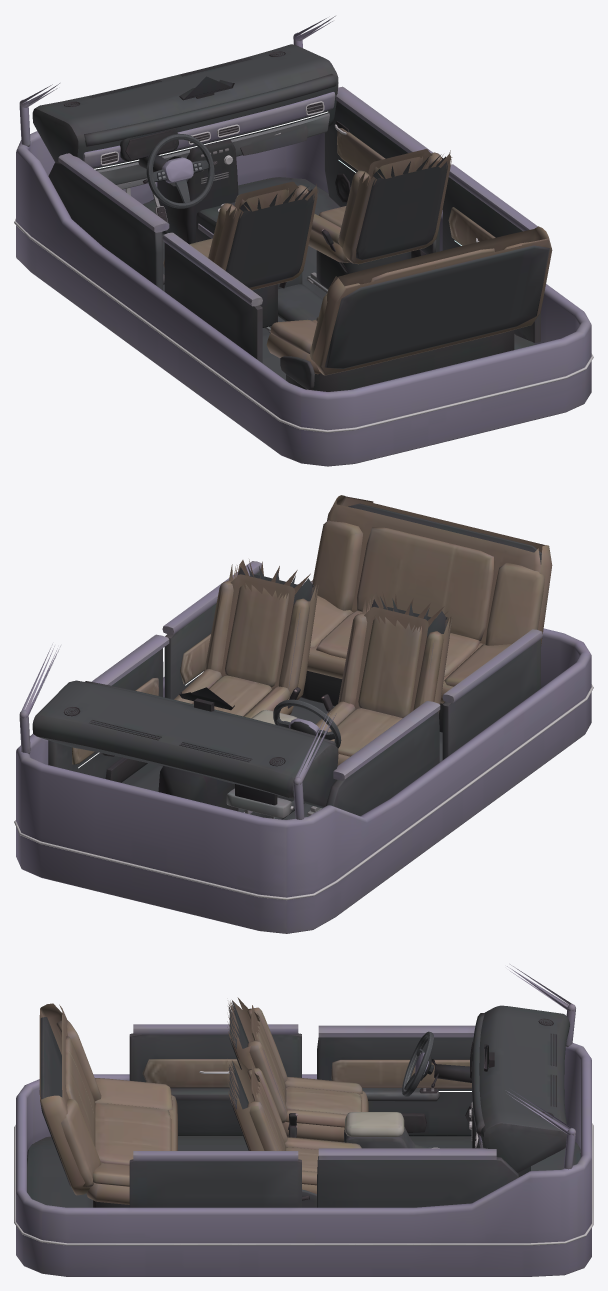
File: cabin.glb
3 views of the same model, one above another, from view 1: azimuth 30°, elevation 25°; view 2: azimuth 150°, elevation 25°; view 3: azimuth 270°, elevation 25° (orthographic). The views are drawn at different scales.
Parts seen in each view (by area): view 1: cabin, wheel; view 2: cabin, wheel; view 3: cabin, wheel.
Boxes of the visible parts, left/top/right/bottom form: cabin: left=14, top=16, right=593, bottom=466; wheel: left=146, top=133, right=214, bottom=208; cabin: left=14, top=495, right=593, bottom=933; wheel: left=273, top=699, right=341, bottom=748; cabin: left=14, top=964, right=593, bottom=1276; wheel: left=402, top=1031, right=434, bottom=1096.
Size of the model in its own units: 1.98 by 1.2 by 3.48.
7 materials, 2 textured.
